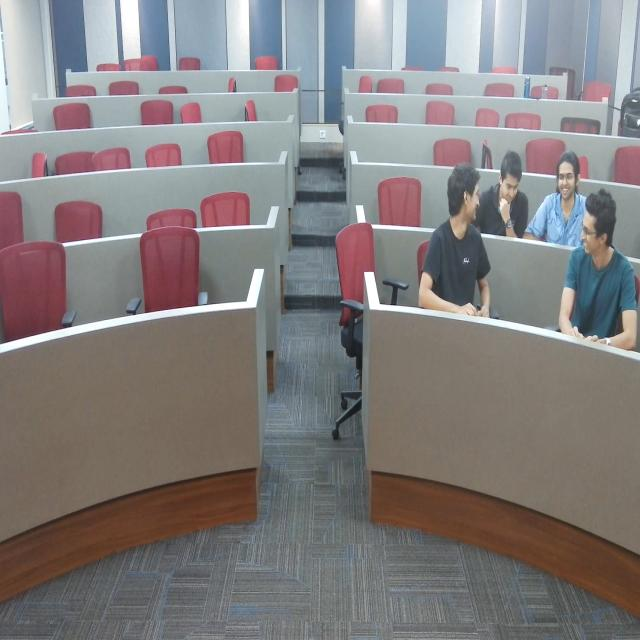cheating: (552, 187, 640, 353), (422, 165, 498, 338)
